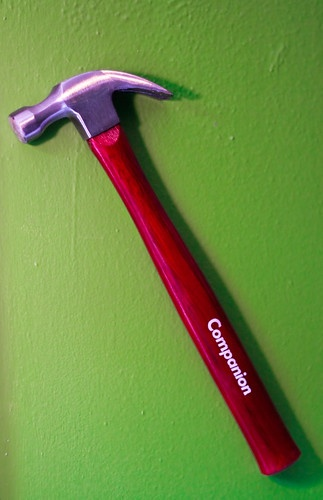hammer: (8, 67, 303, 476)
